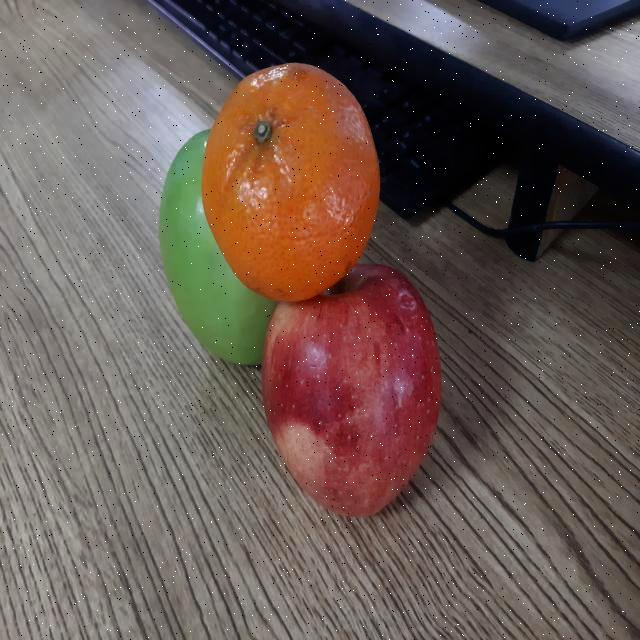Apel Gala: (260, 259, 443, 518)
Apel Granny Smith: (158, 122, 278, 367)
Jeruk Mandarin: (199, 56, 382, 306)
